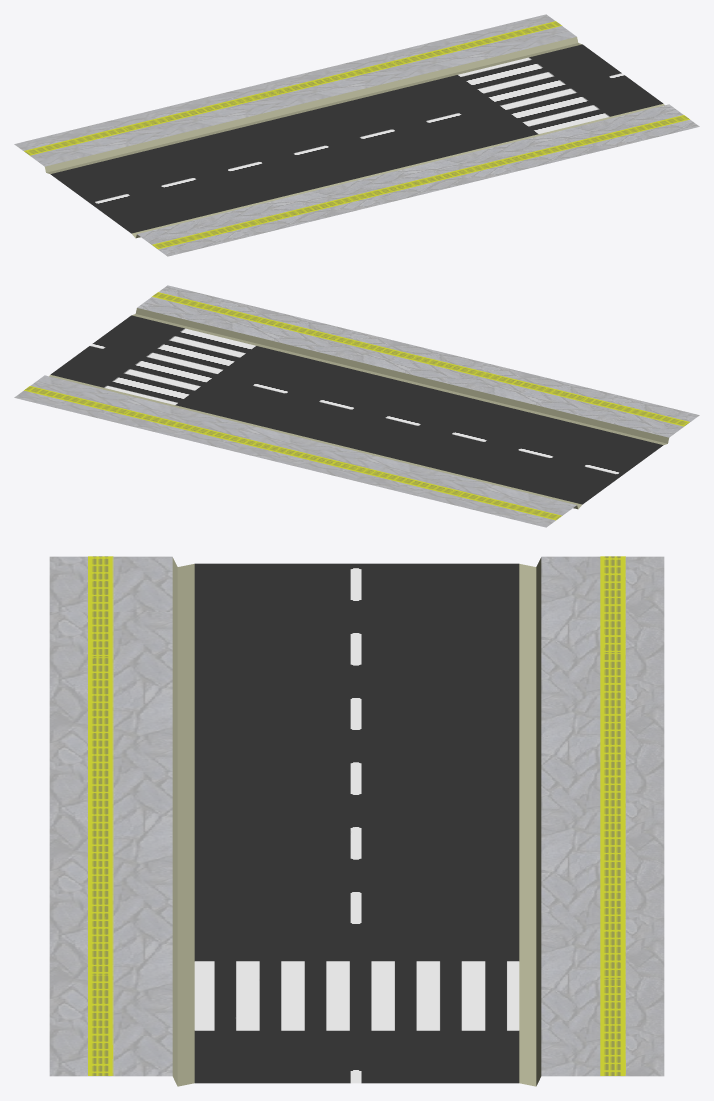
Rendered from RuaReta.fbx.
The picture shows the model from 3 angles, top to bottom: view 1: azimuth 30°, elevation 25°; view 2: azimuth 150°, elevation 25°; view 3: azimuth 270°, elevation 25°; orthographic projection. The views are drawn at different scales.
Parts seen in each view (by area): view 1: Rua reta; view 2: Rua reta; view 3: Rua reta.
Boxes of the visible parts, x1,y1,x2,y2 form: Rua reta: [14, 14, 699, 256]; Rua reta: [14, 285, 699, 527]; Rua reta: [49, 556, 664, 1086].
Bounding box in the file's own units: 1200 × 2400 × 23.37.
1 material, 1 textured.
